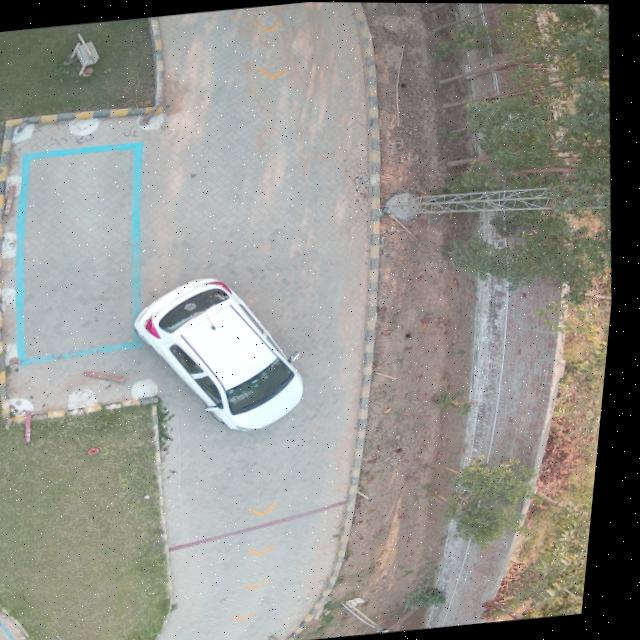car: (140, 277, 310, 431)
